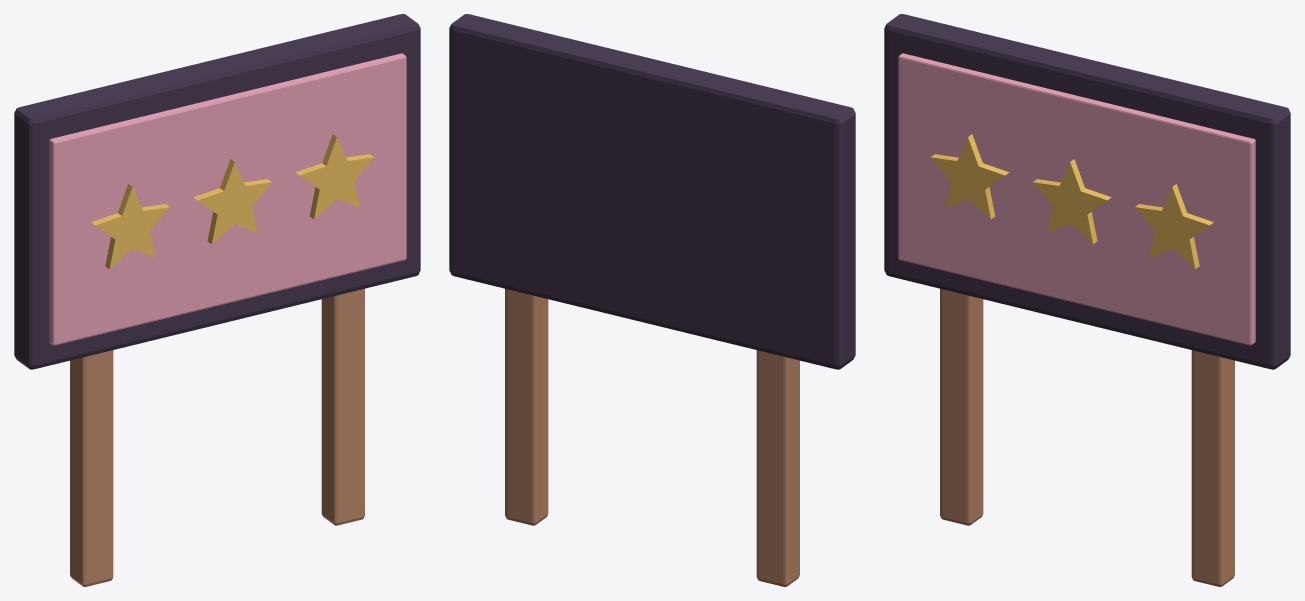
Rendered from rating_stand.glb.
3 views of the same model, side by side, from view 1: azimuth 30°, elevation 25°; view 2: azimuth 150°, elevation 25°; view 3: azimuth 330°, elevation 25° (orthographic).
Visible parts, largest first — view 1: panel, frame, model; view 2: frame, model; view 3: panel, frame, model.
Part boxes in pixels (box(x1,y1,x2,y2)): panel: box(49, 53, 406, 345); frame: box(14, 14, 420, 369); model: box(70, 134, 374, 586); frame: box(449, 14, 855, 369); model: box(505, 288, 799, 586); panel: box(898, 53, 1255, 345); frame: box(884, 14, 1290, 369); model: box(930, 134, 1234, 586).
Size of the model in its own units: 0.7 by 0.82 by 0.08.
